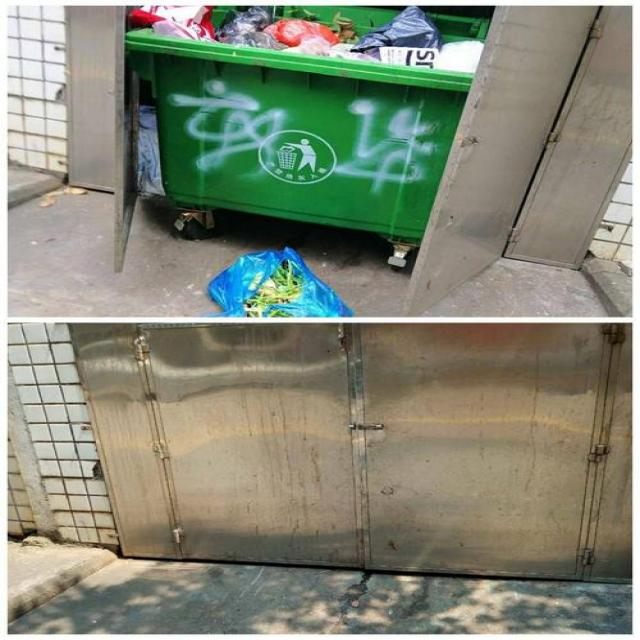garbage: (205, 246, 352, 316)
overflow: (122, 5, 489, 238)
